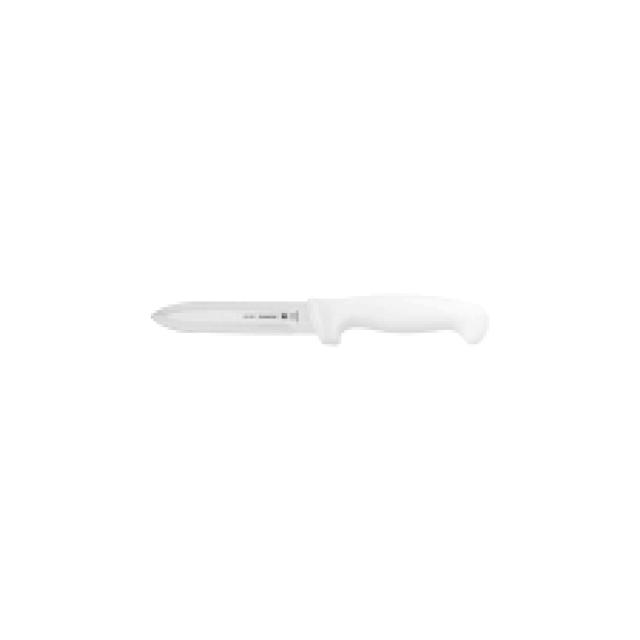Knife: (148, 290, 489, 344)
